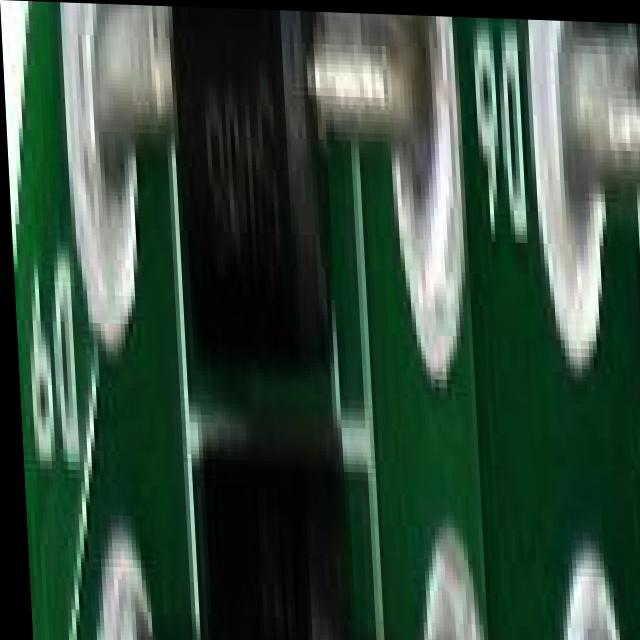diode: (160, 5, 354, 442), (187, 461, 358, 640), (632, 18, 640, 411), (635, 474, 640, 640)
